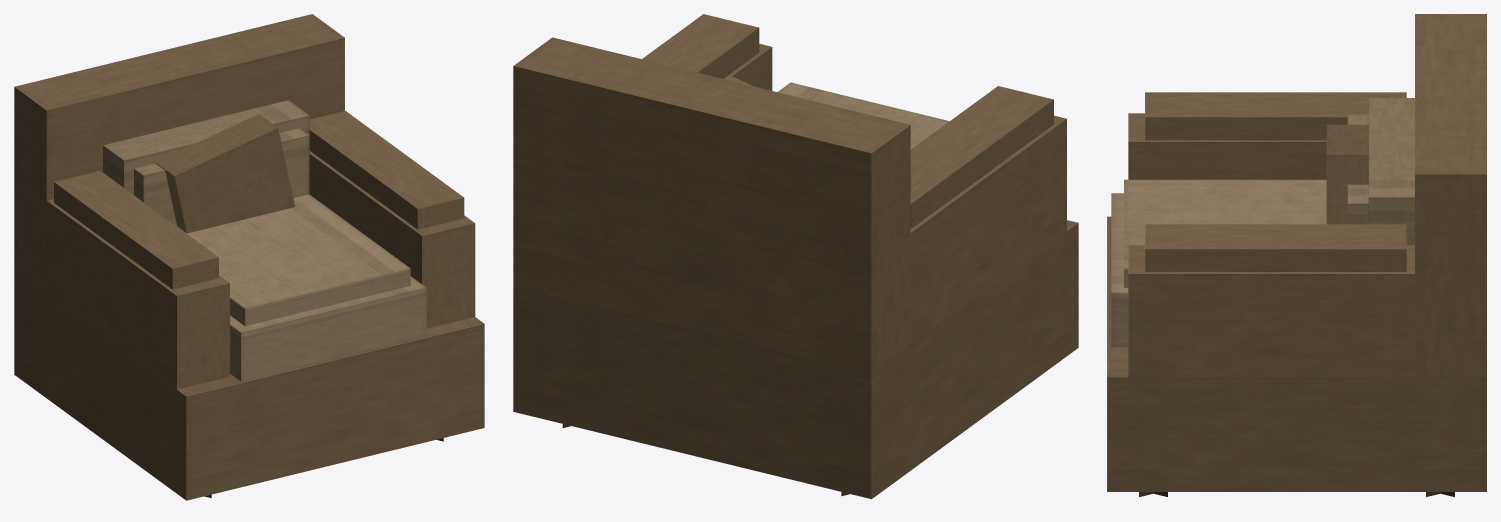
Rendered from armchair.glb.
3 views of the same model, side by side, from view 1: azimuth 30°, elevation 25°; view 2: azimuth 150°, elevation 25°; view 3: azimuth 270°, elevation 25° (orthographic). The views are drawn at different scales.
Parts seen in each view (by area): view 1: core_armchair; view 2: core_armchair; view 3: core_armchair.
Part boxes in pixels (bbox=[...]): core_armchair: bbox=[14, 14, 484, 500]; core_armchair: bbox=[513, 14, 1078, 499]; core_armchair: bbox=[1107, 14, 1486, 496].
Size of the model in its own units: 0.9 by 0.9 by 0.9.
Materials: 1 (1 with a texture image).
